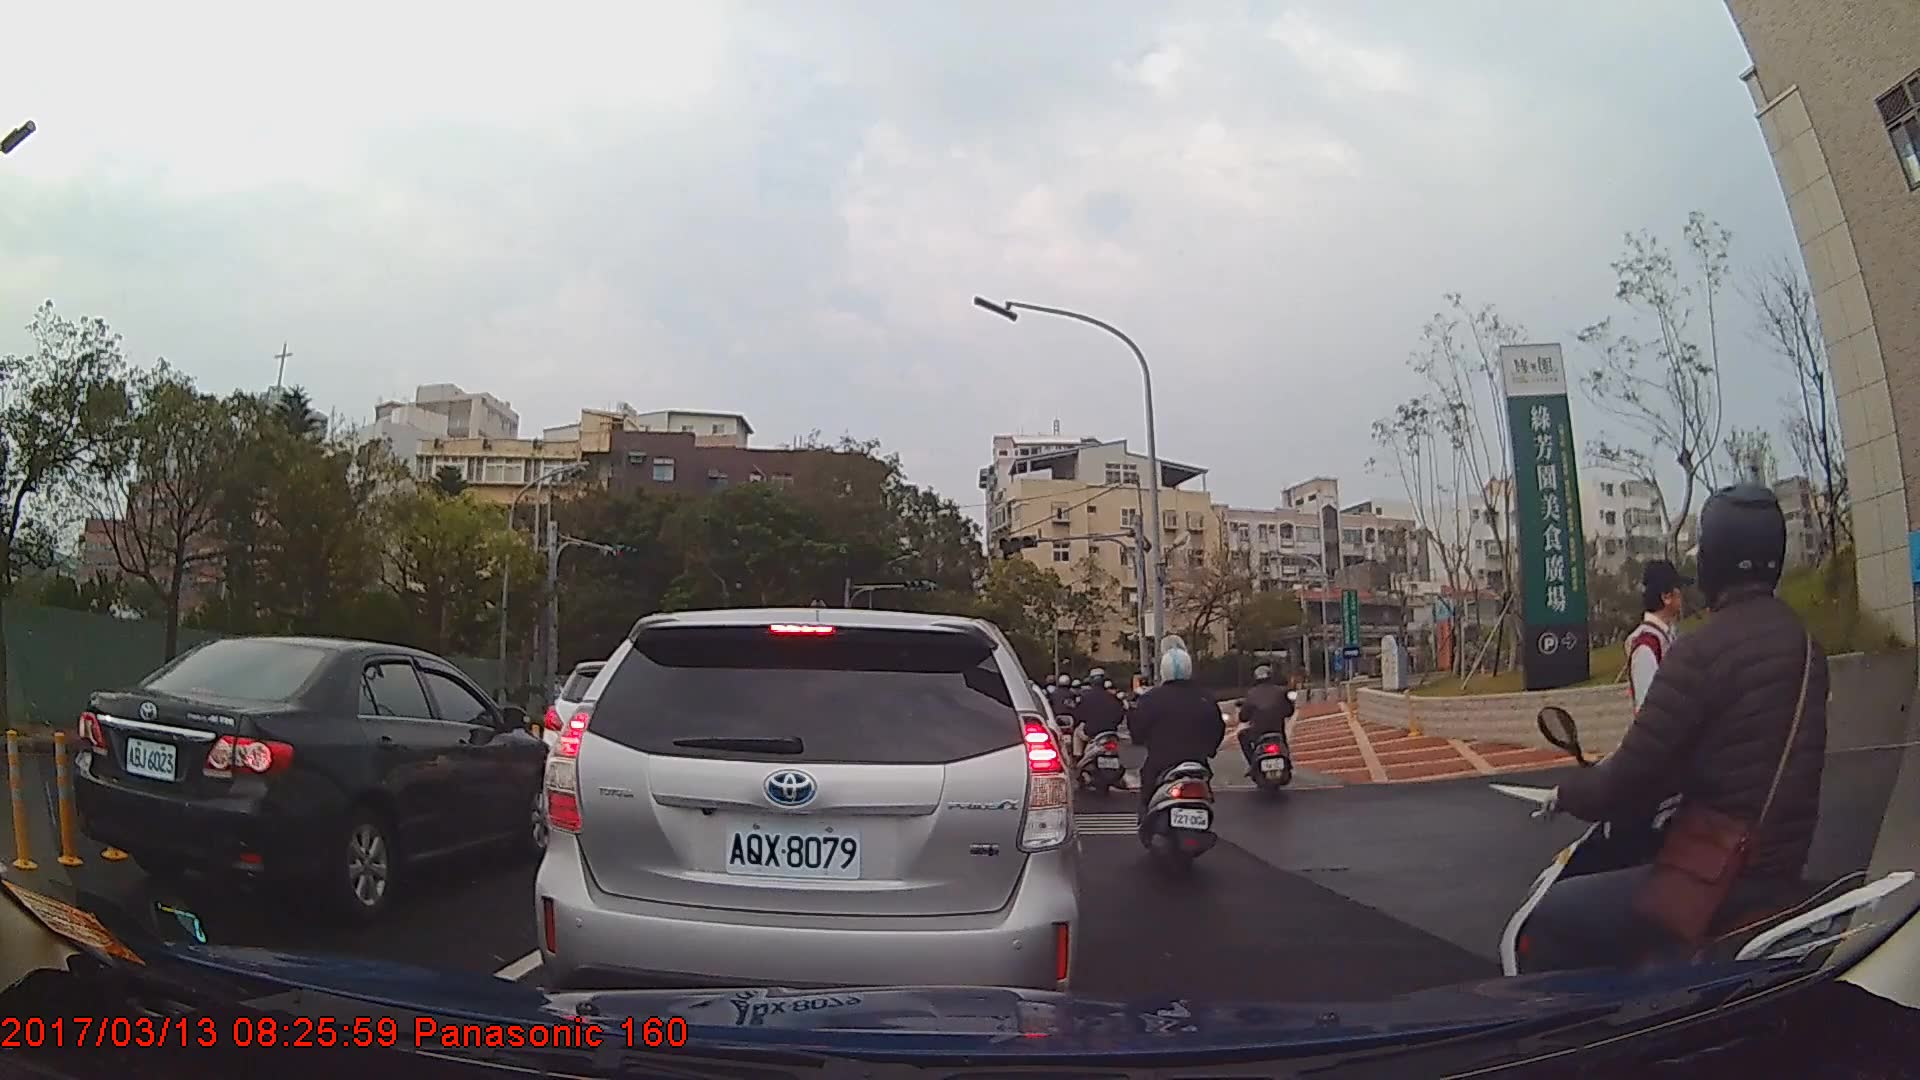rider: (1497, 483, 1920, 1064), (1132, 644, 1235, 887), (1232, 663, 1296, 794), (1076, 666, 1131, 801), (1050, 675, 1084, 762)
vehicle: (536, 605, 1082, 1042), (71, 633, 560, 921)
